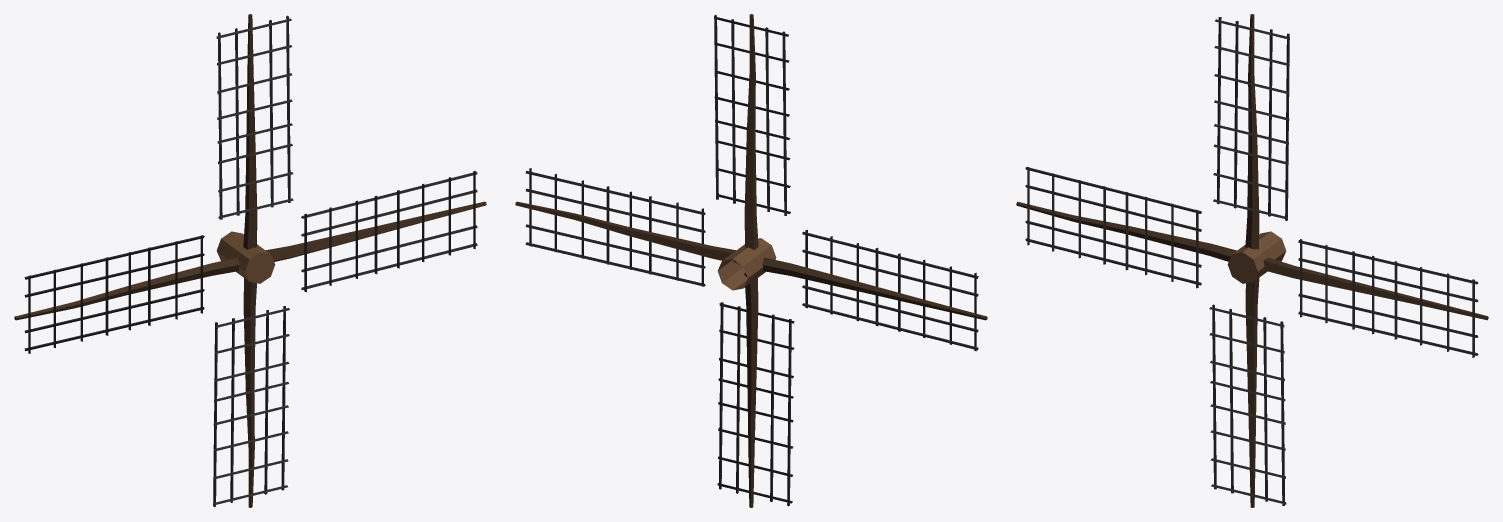
File: windmill_3_blades_mat.fbx
The picture shows the model from 3 angles, left to right: view 1: azimuth 30°, elevation 25°; view 2: azimuth 150°, elevation 25°; view 3: azimuth 330°, elevation 25°; orthographic projection.
Parts seen in each view (by area): view 1: windmill_3_blades_mat; view 2: windmill_3_blades_mat; view 3: windmill_3_blades_mat.
Boxes of the visible parts, x1,y1,x2,y2 form: windmill_3_blades_mat: [14, 14, 486, 507]; windmill_3_blades_mat: [515, 14, 987, 507]; windmill_3_blades_mat: [1016, 14, 1488, 507].
Bounding box in the file's own units: 415 × 415 × 43.53.
